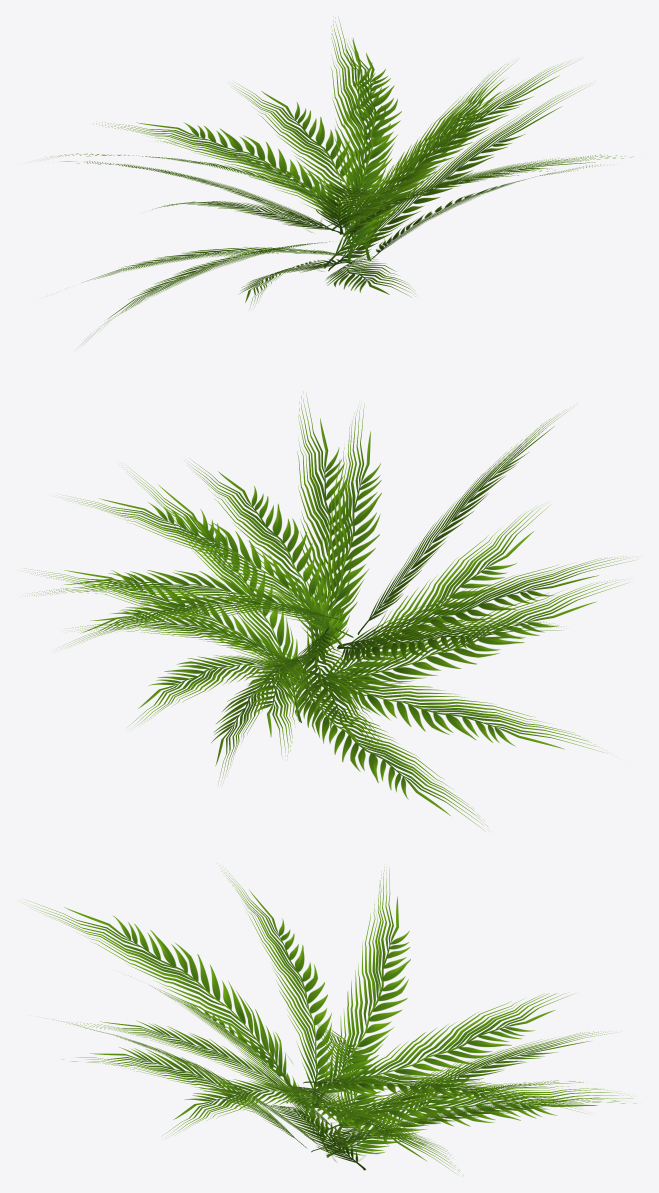
Rendered from plane.011_lev3.glb.
3 renders of one model, top to bottom at view 1: azimuth 30°, elevation 25°; view 2: azimuth 150°, elevation 25°; view 3: azimuth 270°, elevation 25°, orthographic. The views are drawn at different scales.
Visible parts, largest first — view 1: plane.011_lev3; view 2: plane.011_lev3; view 3: plane.011_lev3.
Boxes of the visible parts, x1=… form: plane.011_lev3: x1=51, y1=16, x2=633, y2=344; plane.011_lev3: x1=24, y1=391, x2=635, y2=830; plane.011_lev3: x1=27, y1=866, x2=635, y2=1175.
Size of the model in its own units: 2.37 by 0.9373 by 2.32.
1 material, 1 textured.
